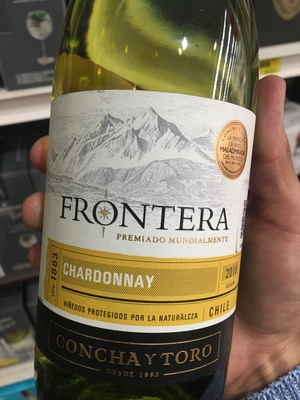frontera chardonnay: (33, 20, 261, 398)
